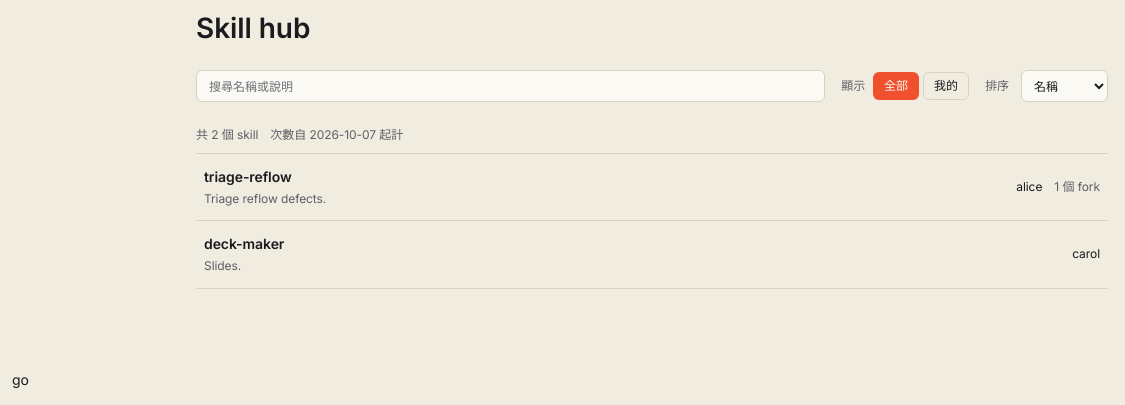
Scenario: SkillHubPage › follows the address when ?q= changes under it
Check: the list item with test id "entry-e-root" is shown, box [196,154,1108,221]
What coordinates should you click on to do the following:
click the link "go"
I would click on:
 (20, 379)
Its box is [12,370,29,388].
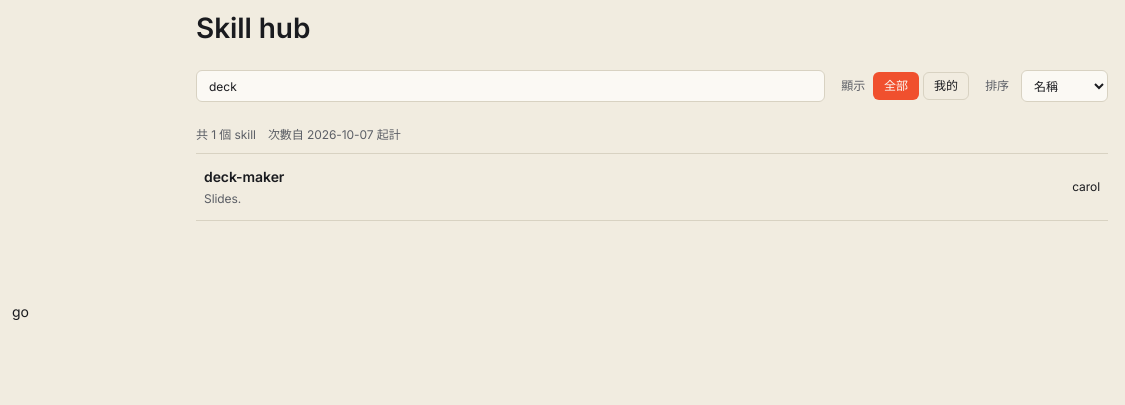
Check: the search field holds "deck", box [196,70,825,102]
